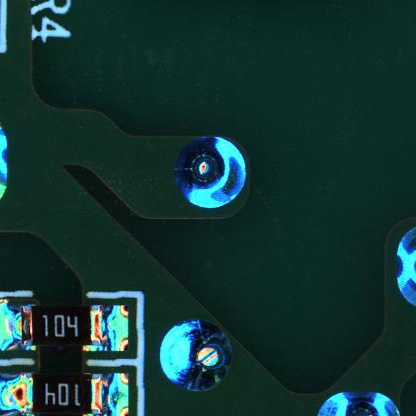spot: (154, 310, 239, 396), (172, 131, 251, 215)
